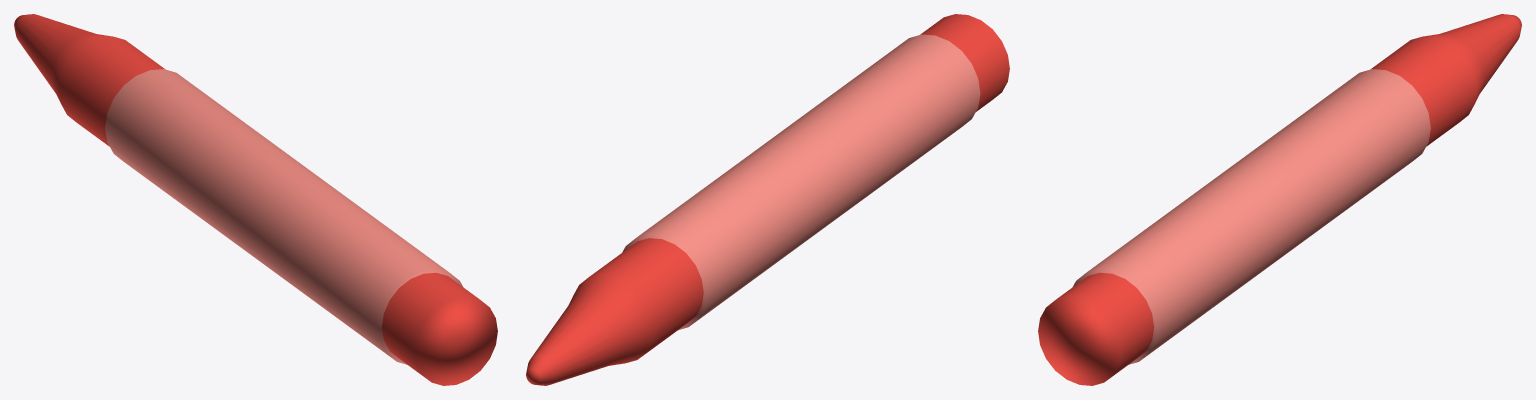
The model's file is TanksCrayon.obj.
The picture shows the model from 3 angles, left to right: view 1: azimuth 30°, elevation 25°; view 2: azimuth 150°, elevation 25°; view 3: azimuth 330°, elevation 25°; orthographic projection.
Visible parts, largest first — view 1: Wrapper, Wax; view 2: Wrapper, Wax; view 3: Wrapper, Wax.
Boxes of the visible parts, x1,y1,x2,y2 form: Wrapper: (105, 69, 462, 364); Wax: (14, 14, 497, 385); Wrapper: (622, 34, 980, 329); Wax: (526, 14, 1009, 385); Wrapper: (1073, 69, 1430, 364); Wax: (1038, 14, 1521, 385).
Bounding box in the file's own units: 1.9 × 1.9 × 15.95.
